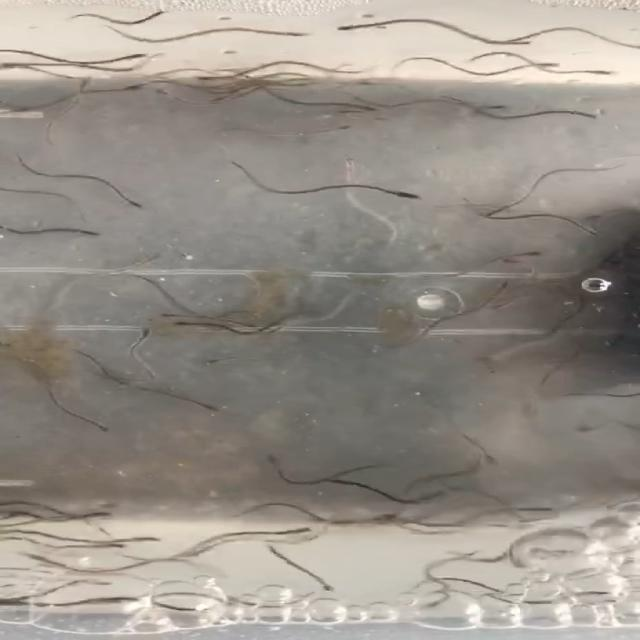active_glass_eel: (360, 505, 422, 533), (104, 316, 158, 346), (222, 442, 290, 465), (400, 594, 469, 616), (190, 404, 247, 424), (74, 504, 128, 525), (517, 54, 563, 78), (161, 296, 187, 335), (83, 422, 130, 443), (72, 71, 108, 97), (333, 120, 365, 148), (116, 199, 166, 216), (584, 64, 616, 88), (490, 274, 522, 298), (149, 83, 177, 109), (128, 535, 179, 549), (480, 452, 512, 474), (210, 96, 253, 112), (571, 226, 616, 241), (576, 107, 604, 131), (319, 18, 360, 34), (480, 92, 503, 120), (506, 246, 546, 262), (174, 244, 207, 263), (104, 594, 138, 612), (300, 524, 323, 550), (104, 542, 137, 560), (290, 28, 316, 50), (352, 102, 382, 120), (73, 228, 114, 241), (194, 72, 231, 86), (323, 158, 372, 168), (132, 46, 154, 67), (308, 584, 348, 594), (392, 189, 425, 201), (236, 318, 267, 330)
